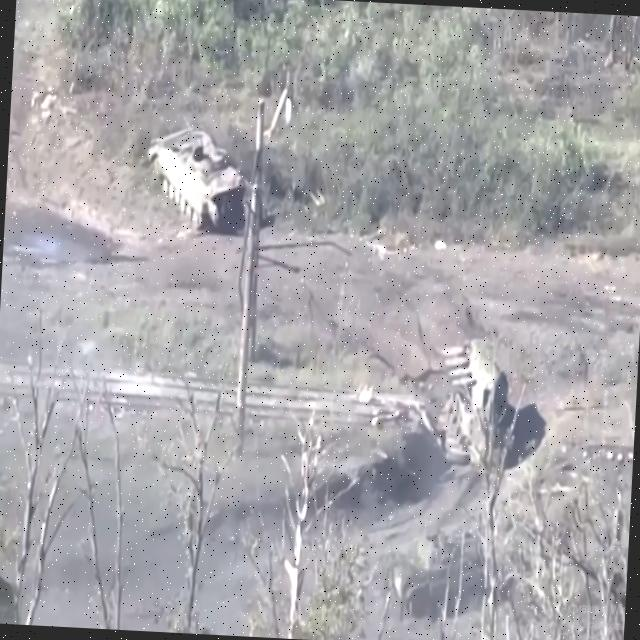AIFV: (143, 113, 255, 238), (385, 523, 505, 627)
APC: (434, 335, 515, 475)
